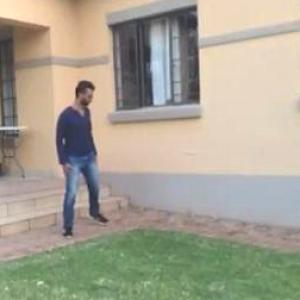follow: (57, 72, 106, 241)
